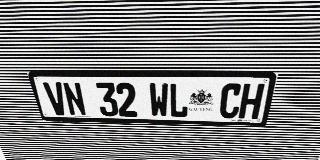2: (115, 82, 137, 117)
3: (95, 82, 119, 116)
C: (218, 83, 243, 119)
H: (238, 83, 265, 119)
L: (169, 83, 189, 118)
N: (61, 82, 87, 116)
V: (42, 82, 69, 115)
W: (149, 83, 168, 117)
